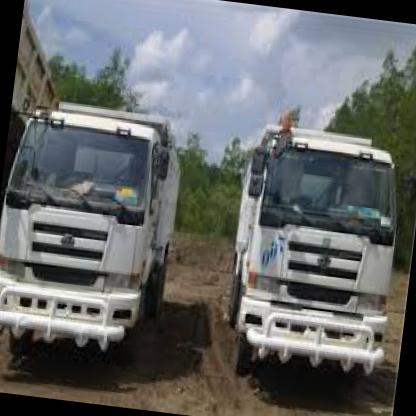truck: (228, 129, 413, 402), (1, 106, 169, 380)
